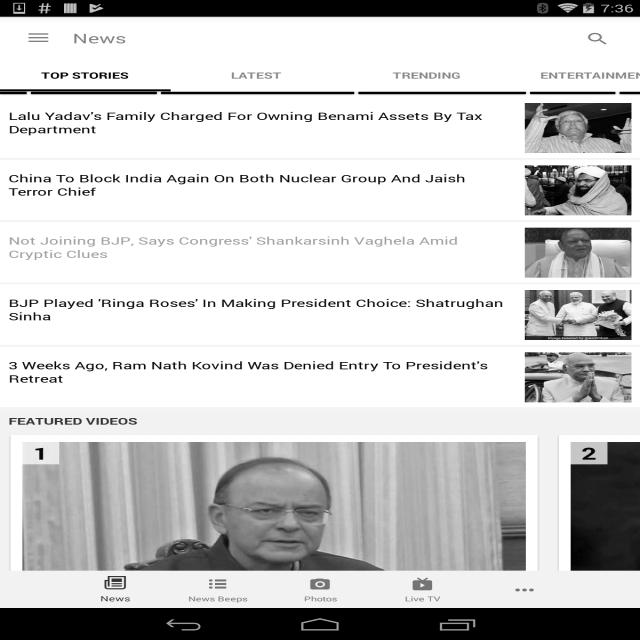ImageButton: (9, 17, 68, 59)
ImageView: (22, 442, 526, 640), (570, 442, 640, 640), (525, 103, 631, 153), (525, 166, 631, 216), (525, 228, 631, 278), (525, 290, 631, 340), (525, 352, 631, 402), (563, 20, 632, 57), (102, 574, 128, 590), (307, 576, 333, 592), (512, 576, 538, 592), (205, 576, 230, 592), (410, 576, 435, 592)
ProgressBar: (0, 88, 640, 98)
TextView: (9, 171, 508, 199), (9, 358, 508, 386), (9, 109, 508, 136), (9, 234, 508, 261), (9, 296, 508, 323), (8, 415, 138, 427), (540, 70, 640, 82), (41, 70, 129, 82), (64, 594, 166, 604), (72, 29, 126, 47), (166, 594, 269, 603), (371, 594, 474, 603), (269, 594, 371, 603), (474, 594, 576, 603), (570, 442, 608, 464), (22, 442, 59, 464), (393, 70, 460, 82), (230, 70, 282, 82)
